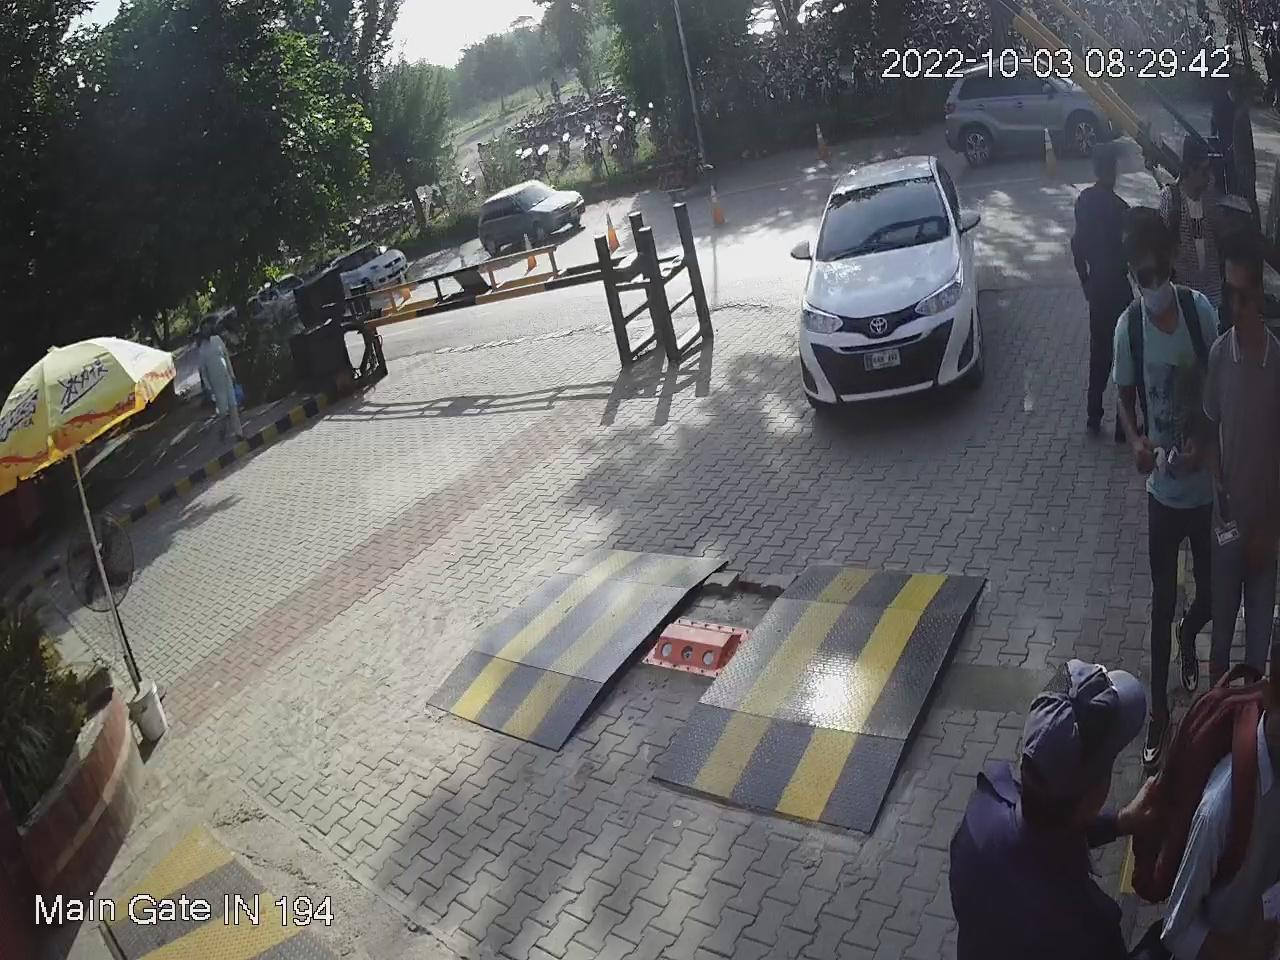windshield: (813, 167, 955, 262)
